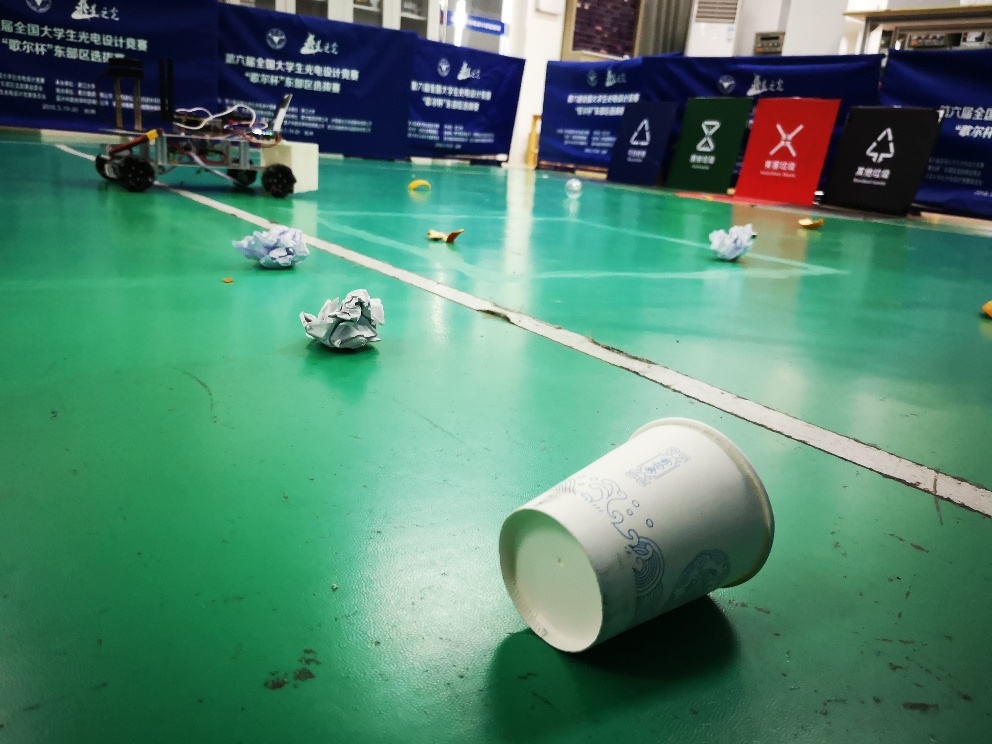bottle: (561, 176, 584, 200)
orangepeel: (417, 222, 470, 250), (791, 211, 829, 234), (402, 175, 435, 194), (975, 292, 992, 326)
papercup: (487, 416, 783, 657)
spitball: (299, 289, 387, 354), (232, 223, 311, 272), (705, 221, 758, 263)
